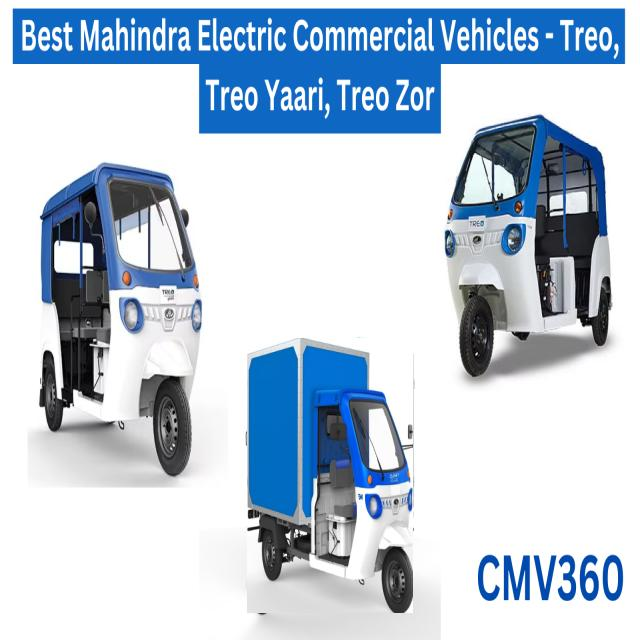autorickshaw: (40, 164, 201, 476), (248, 338, 413, 613), (445, 116, 614, 376)
